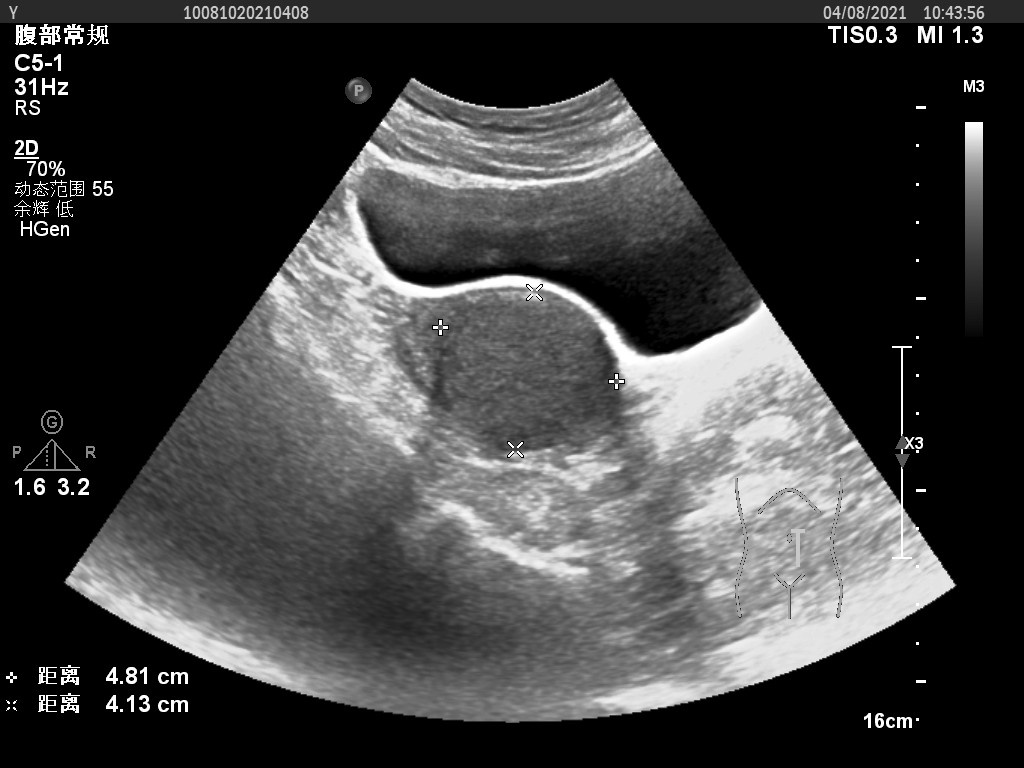肌瘤: (438, 289, 617, 445)
